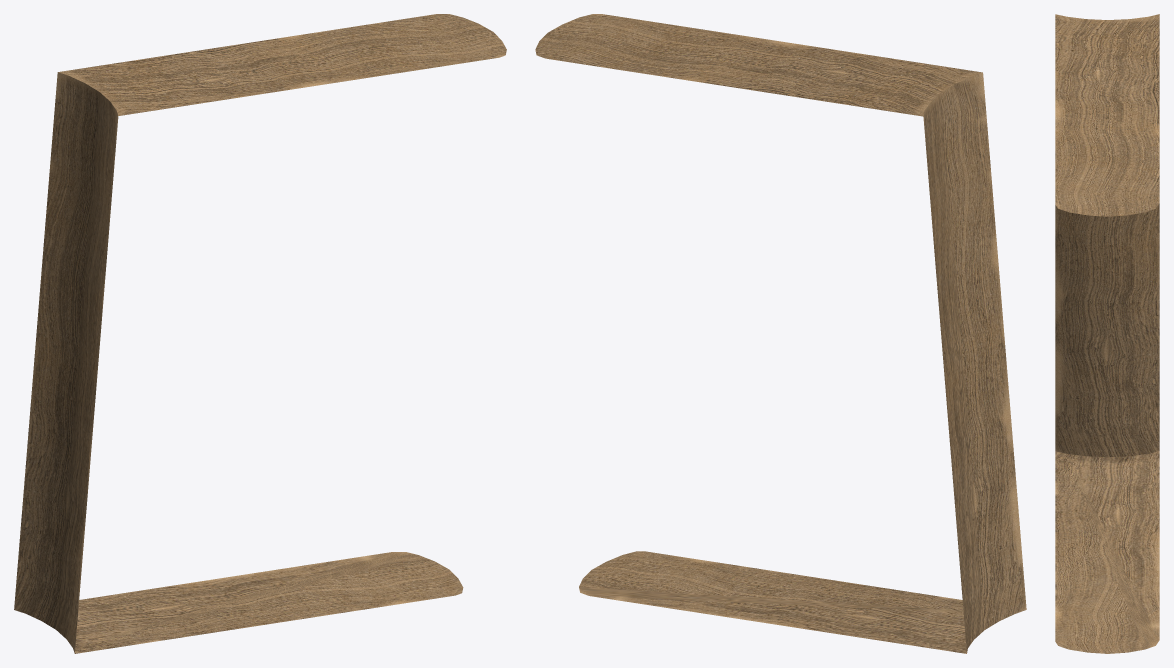
File: Paper004.obj
The picture shows the model from 3 angles, left to right: view 1: azimuth 30°, elevation 25°; view 2: azimuth 150°, elevation 25°; view 3: azimuth 270°, elevation 25°; orthographic projection. The views are drawn at different scales.
Size of the model in its own units: 0.0101 by 0.0121 by 0.00234.
1 material, 1 textured.
